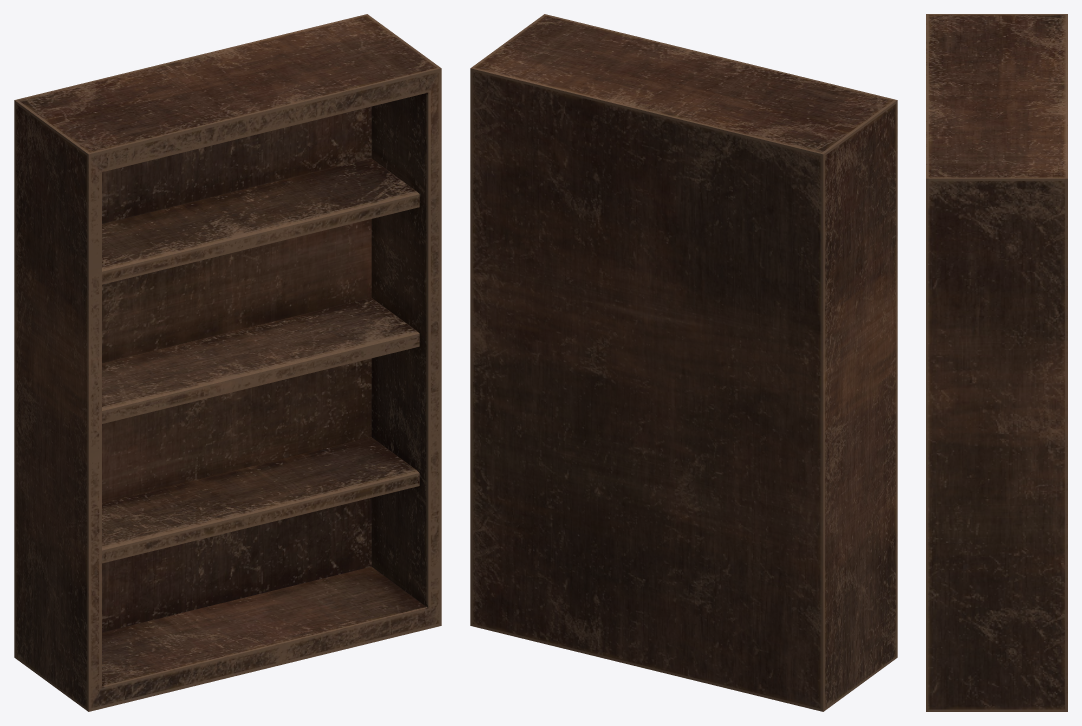
3 views of the same model, side by side, from view 1: azimuth 30°, elevation 25°; view 2: azimuth 150°, elevation 25°; view 3: azimuth 270°, elevation 25° (orthographic). The views are drawn at different scales.
Parts seen in each view (by area): view 1: Book_Self_exported3:Mesh; view 2: Book_Self_exported3:Mesh; view 3: Book_Self_exported3:Mesh.
Part boxes in pixels (x1,y1,x2,y2): Book_Self_exported3:Mesh: (14,14,441,711); Book_Self_exported3:Mesh: (470,14,897,711); Book_Self_exported3:Mesh: (926,14,1067,711).
Size of the model in its own units: 1.32 by 2 by 0.4823.
1 material, 1 textured.
